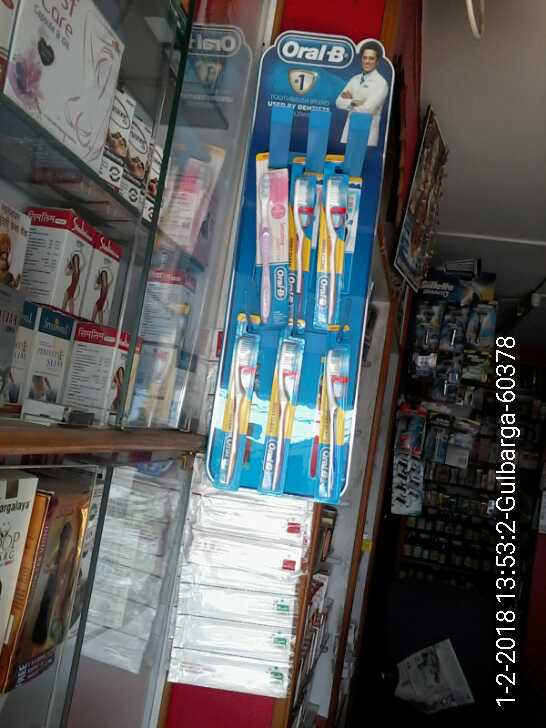oralb: (247, 148, 294, 320), (316, 340, 351, 499), (218, 333, 253, 490), (315, 176, 347, 332), (271, 337, 301, 495), (289, 176, 313, 338)
